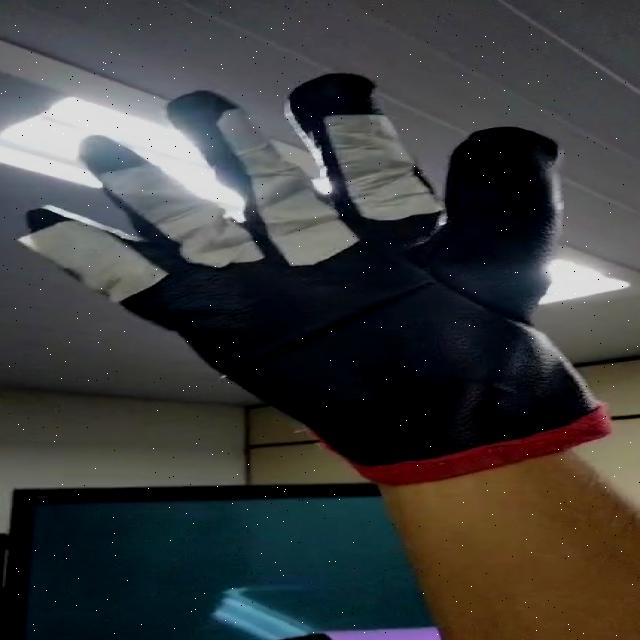Gloves: (28, 75, 620, 485)
